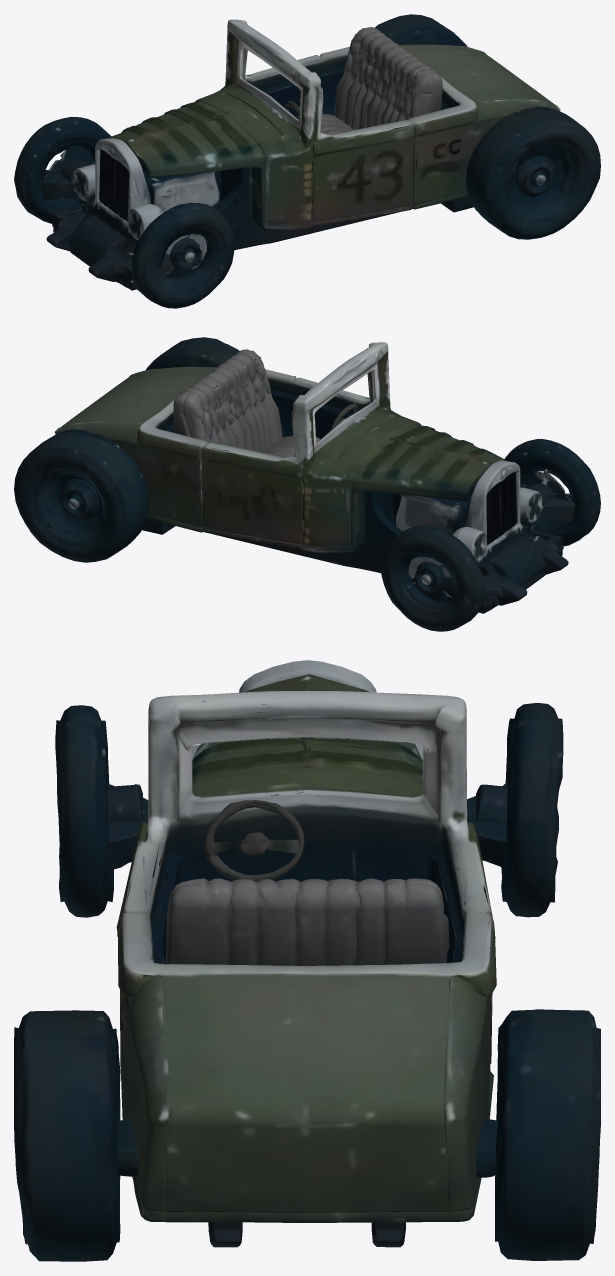
File: car-2.glb
The picture shows the model from 3 angles, top to bottom: view 1: azimuth 30°, elevation 25°; view 2: azimuth 150°, elevation 25°; view 3: azimuth 270°, elevation 25°; orthographic projection. The views are drawn at different scales.
Size of the model in its own units: 0.9492 by 0.3779 by 0.5464.
1 material, 1 textured.
